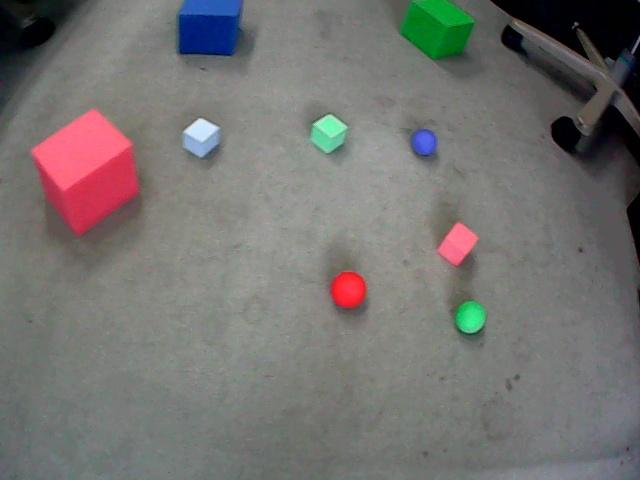blue_block: (178, 0, 242, 54), (183, 118, 220, 157)
red_block: (31, 109, 138, 235), (437, 222, 477, 266)
